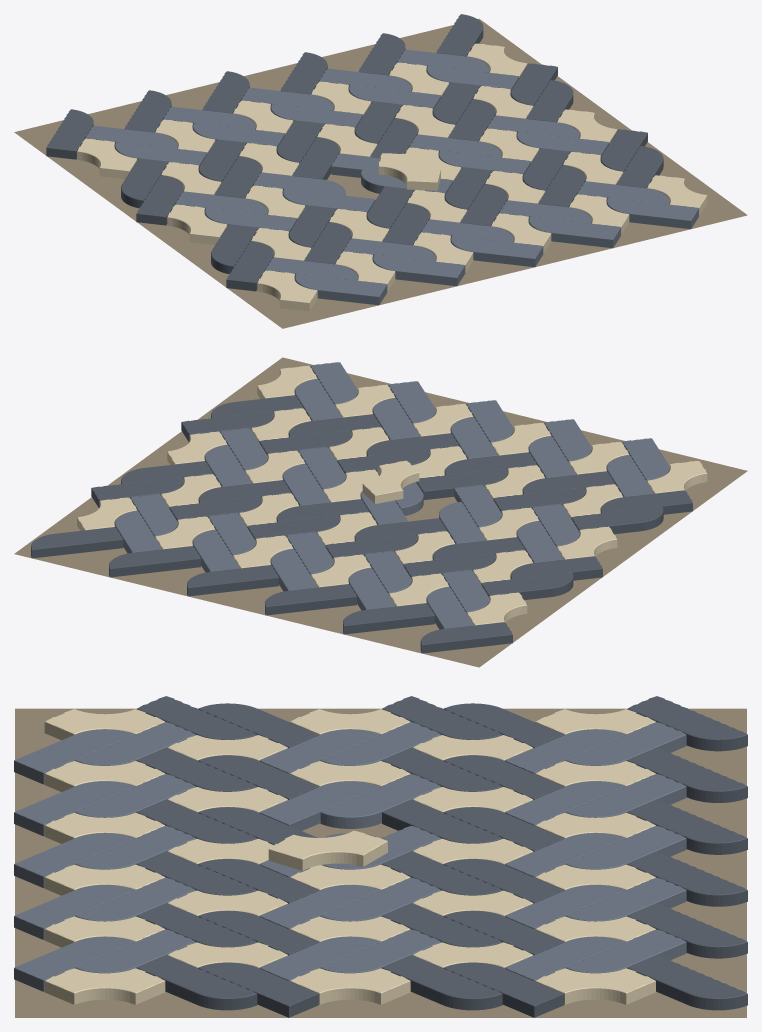
File: terilgan.glb
3 renders of one model, top to bottom at view 1: azimuth 30°, elevation 25°; view 2: azimuth 150°, elevation 25°; view 3: azimuth 270°, elevation 25°, orthographic. The views are drawn at different scales.
Parts seen in each view (by area): view 1: qum, t.006, t.001, t.003, t.012, t.009, t.028, t, t.050, t.017, t.054, t.021 (+77 smaller); view 2: qum, t.082, t.087, t.084, t.085, t.086, t.083, t.049, t.016, t.028, t.026, t.054 (+77 smaller); view 3: qum, t.014, t.048, t.081, t.028, t.087, t.046, t.079, t.082, t.083, t.086, t.085 (+76 smaller).
Part boxes in pixels (left/top/right/bottom): qum: left=14, top=18, right=747, bottom=328; t.006: left=451, top=236, right=543, bottom=267; t.001: left=295, top=274, right=387, bottom=305; t.003: left=373, top=255, right=465, bottom=286; t.012: left=607, top=198, right=698, bottom=229; t.009: left=529, top=217, right=620, bottom=248; t.028: left=378, top=153, right=440, bottom=190; t: left=257, top=270, right=317, bottom=311; t.050: left=77, top=138, right=137, bottom=178; t.017: left=167, top=204, right=227, bottom=244; t.054: left=136, top=175, right=183, bottom=225; t.021: left=226, top=241, right=273, bottom=291; qum: left=14, top=357, right=747, bottom=667; t.082: left=420, top=622, right=512, bottom=653; t.087: left=31, top=527, right=123, bottom=558; t.084: left=265, top=584, right=356, bottom=615; t.085: left=187, top=565, right=278, bottom=596; t.086: left=109, top=546, right=200, bottom=577; t.083: left=343, top=603, right=434, bottom=634; t.049: left=481, top=572, right=573, bottom=600; t.016: left=571, top=507, right=663, bottom=534; t.028: left=362, top=460, right=419, bottom=503; t.026: left=416, top=468, right=507, bottom=499; t.054: left=510, top=556, right=602, bottom=580; qum: left=15, top=708, right=746, bottom=1017; t.014: left=44, top=968, right=165, bottom=1004; t.048: left=136, top=955, right=257, bottom=1010; t.081: left=382, top=955, right=502, bottom=1010; t.028: left=268, top=830, right=387, bottom=870; t.087: left=627, top=955, right=747, bottom=1010; t.046: left=290, top=968, right=410, bottom=1004; t.079: left=535, top=968, right=655, bottom=1004; t.082: left=627, top=696, right=747, bottom=751; t.083: left=627, top=748, right=747, bottom=802; t.086: left=627, top=903, right=747, bottom=958; t.085: left=627, top=851, right=747, bottom=906.
Size of the model in its own units: 1.66 by 0.062 by 1.66.
